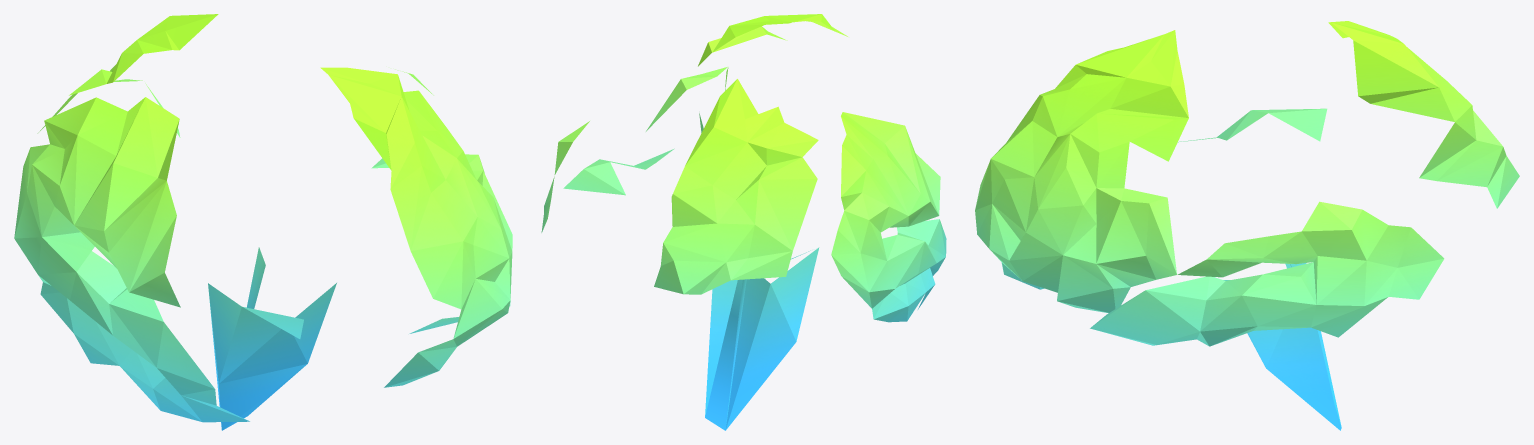
Rendered from Brain_light.gltf.
3 renders of one model, left to right at view 1: azimuth 30°, elevation 25°; view 2: azimuth 150°, elevation 25°; view 3: azimuth 270°, elevation 25°, orthographic. The views are drawn at different scales.
Parts seen in each view (by area): view 1: BrainSolid Light F, BrainSolid Light A, BrainSolid Light D, BrainSolid Light B, BrainSolid Light E; view 2: BrainSolid Light E, BrainSolid Light F, BrainSolid Light D, BrainSolid Light C, BrainSolid Light A, BrainSolid Light B; view 3: BrainSolid Light C, BrainSolid Light A, BrainSolid Light B, BrainSolid Light E, BrainSolid Light D, BrainSolid Light F.
Boxes of the visible parts, left/top/right/bottom form: BrainSolid Light F: left=14, top=97, right=249, bottom=422; BrainSolid Light A: left=320, top=67, right=512, bottom=309; BrainSolid Light D: left=208, top=247, right=336, bottom=430; BrainSolid Light B: left=384, top=154, right=512, bottom=387; BrainSolid Light E: left=37, top=14, right=218, bottom=137; BrainSolid Light E: left=654, top=79, right=818, bottom=294; BrainSolid Light F: left=831, top=112, right=946, bottom=322; BrainSolid Light D: left=705, top=247, right=819, bottom=430; BrainSolid Light C: left=541, top=121, right=674, bottom=232; BrainSolid Light A: left=698, top=14, right=847, bottom=90; BrainSolid Light B: left=646, top=67, right=727, bottom=132; BrainSolid Light C: left=1090, top=201, right=1444, bottom=346; BrainSolid Light A: left=975, top=30, right=1188, bottom=254; BrainSolid Light B: left=975, top=188, right=1176, bottom=313; BrainSolid Light E: left=1328, top=21, right=1519, bottom=208; BrainSolid Light D: left=1214, top=263, right=1341, bottom=430; BrainSolid Light F: left=1178, top=108, right=1327, bottom=142.
Bounding box in the file's own units: 4.69 × 4.71 × 5.78.
Materials: 1 (1 with a texture image).
